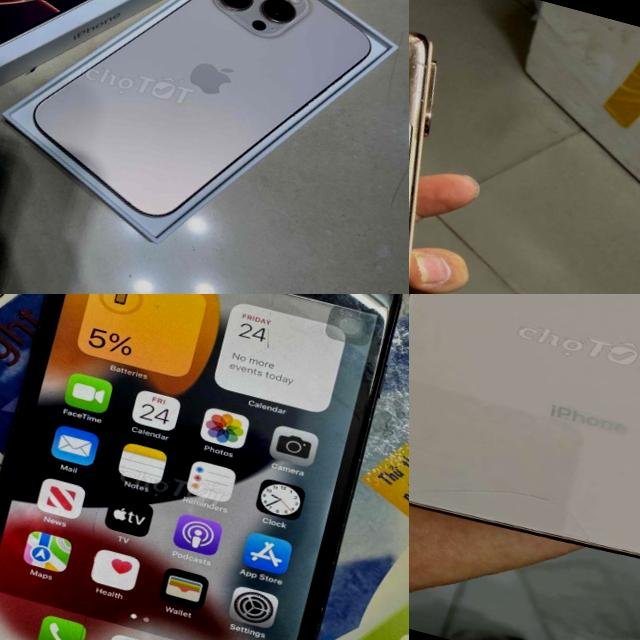gen_16: (14, 0, 384, 262)
gen_7_8: (0, 294, 399, 640), (409, 294, 640, 609)
